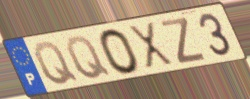3: (198, 11, 233, 59)
O: (98, 27, 142, 76)
Q: (64, 34, 114, 81), (32, 40, 81, 87)
X: (126, 20, 177, 71)
Z: (159, 16, 208, 66)
